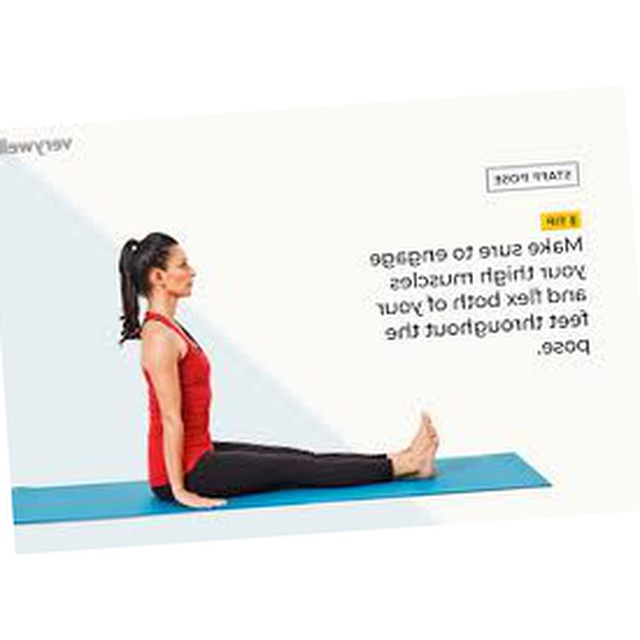Staff_Pose: (116, 231, 441, 510)
